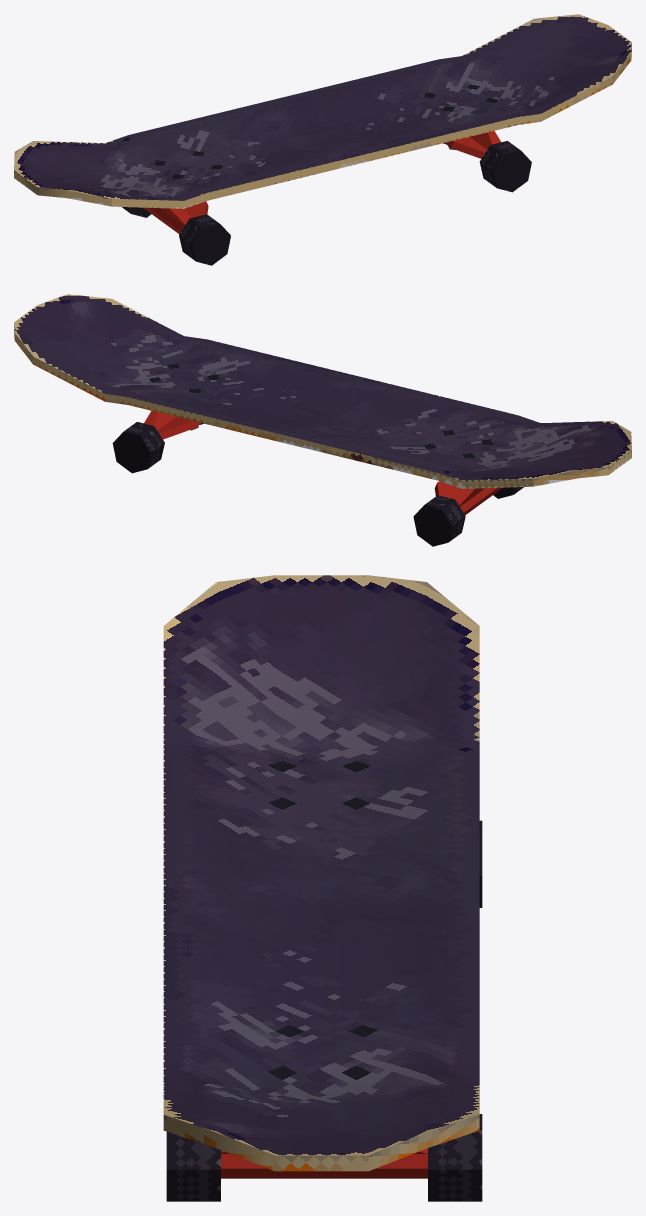
File: board-mint.glb
3 views of the same model, one above another, from view 1: azimuth 30°, elevation 25°; view 2: azimuth 150°, elevation 25°; view 3: azimuth 270°, elevation 25° (orthographic). The views are drawn at different scales.
Parts seen in each view (by area): view 1: Object_2; view 2: Object_2; view 3: Object_2.
Boxes of the visible parts, <box> form: Object_2: <box>14,14,631,265</box>; Object_2: <box>14,294,631,546</box>; Object_2: <box>163,575,482,1201</box>.
Bounding box in the file's own units: 9.83 × 1.56 × 2.28.
Materials: 1 (1 with a texture image).
